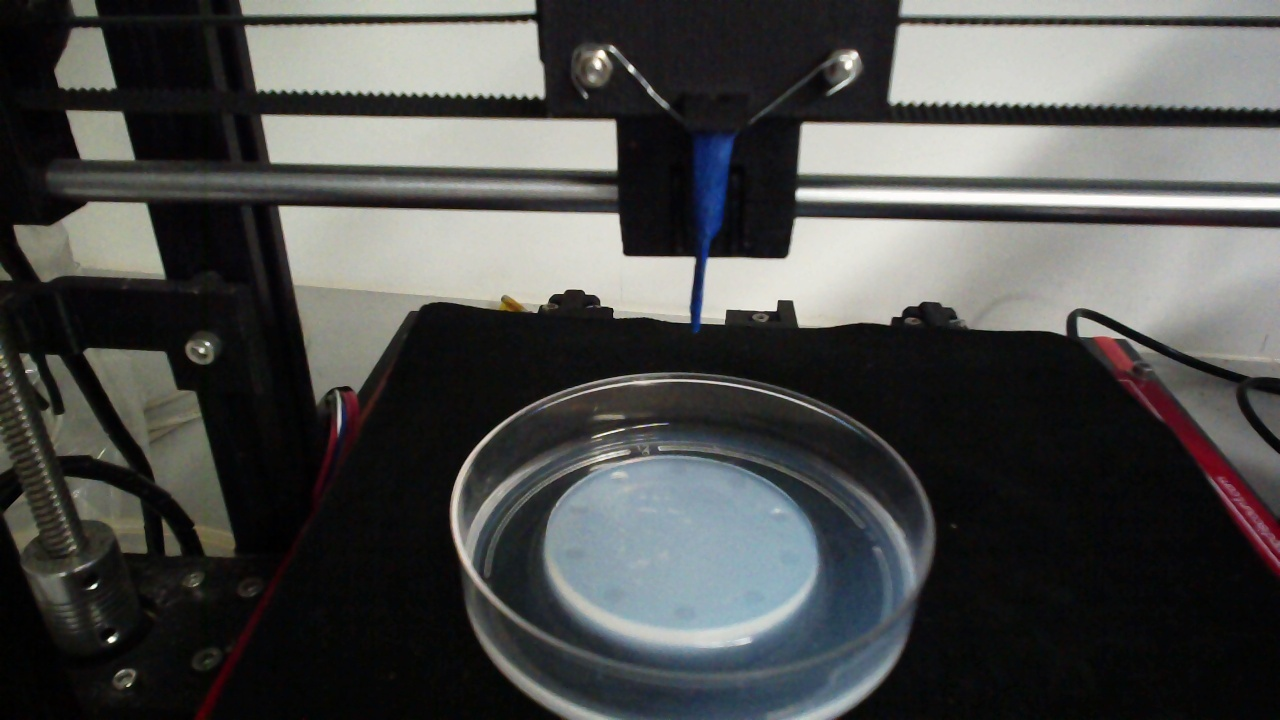groove: (768, 506, 795, 525), (777, 546, 802, 565), (563, 544, 589, 562), (740, 586, 766, 604), (601, 584, 625, 603), (672, 604, 696, 622), (724, 473, 747, 489), (567, 499, 591, 514), (666, 462, 690, 476), (610, 470, 630, 484)
needle: (689, 137, 735, 335)
